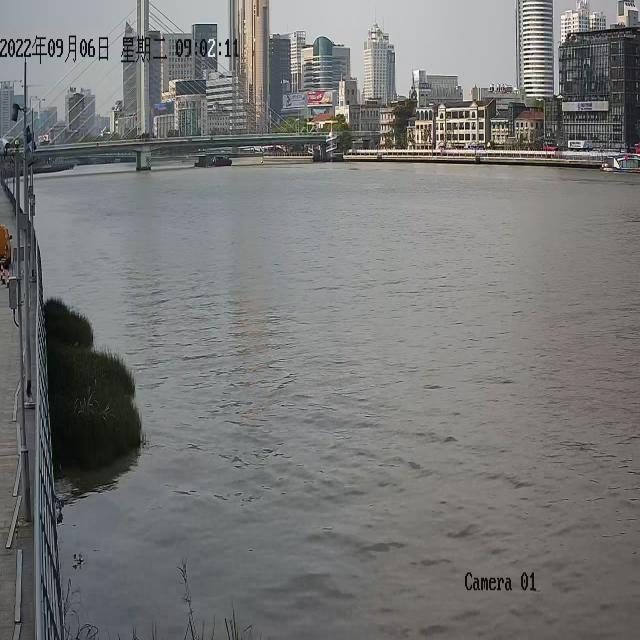ship: (194, 153, 232, 167), (181, 151, 190, 162)
